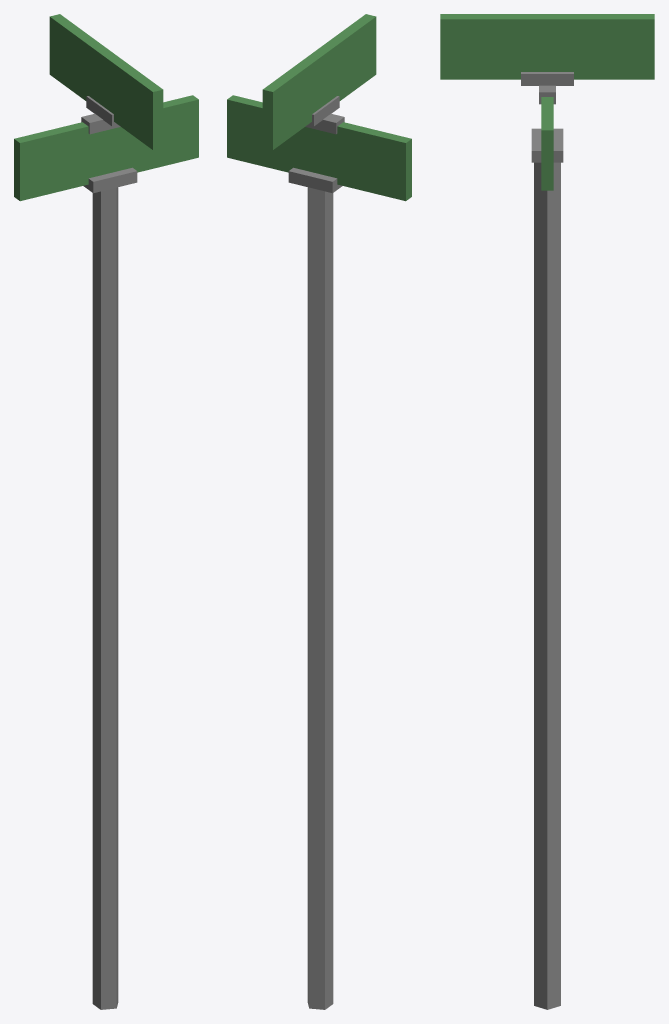
The model's file is StreetSign01.fbx.
The picture shows the model from 3 angles, left to right: view 1: azimuth 30°, elevation 25°; view 2: azimuth 150°, elevation 25°; view 3: azimuth 270°, elevation 25°; orthographic projection. The views are drawn at different scales.
Visible parts, largest first — view 1: StreetSign01, StreetSign02; view 2: StreetSign01, StreetSign02; view 3: StreetSign01, StreetSign02.
Part boxes in pixels (box(x1,y1,x2,y2)): StreetSign01: box(14, 95, 198, 1009); StreetSign02: box(49, 14, 163, 149); StreetSign01: box(227, 95, 411, 1009); StreetSign02: box(262, 14, 376, 149); StreetSign01: box(531, 97, 563, 1009); StreetSign02: box(440, 14, 654, 104).
Size of the model in its own units: 169 by 859 by 169.
